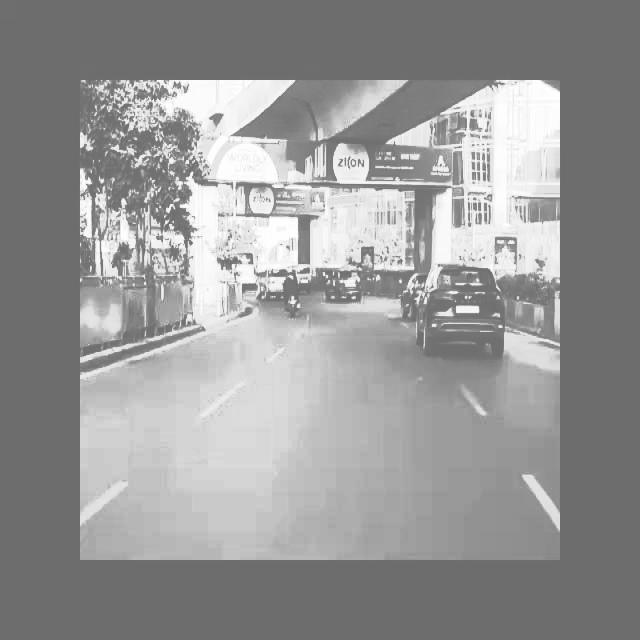Car: (419, 251, 511, 365), (323, 263, 368, 297), (262, 261, 295, 307), (299, 259, 320, 293)
